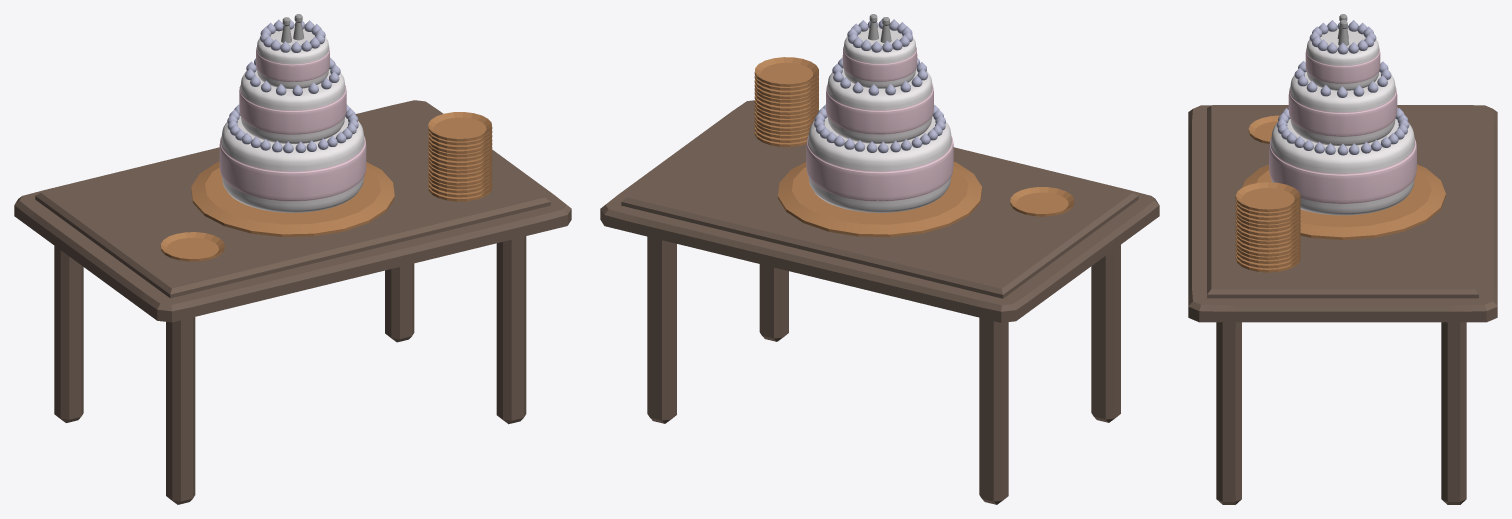
Rendered from wedding cake.fbx.
3 renders of one model, left to right at view 1: azimuth 30°, elevation 25°; view 2: azimuth 150°, elevation 25°; view 3: azimuth 270°, elevation 25°, orthographic.
Visible parts, largest first — view 1: pCube1, pCylinder2, pCylinder1, pCylinder3, polySurface14, pCone31, pCylinder4, polySurface24; view 2: pCube1, pCylinder2, pCylinder1, pCylinder3, polySurface14, pCone31, pCylinder4, polySurface24; view 3: pCube1, pCylinder2, pCylinder3, polySurface14, pCylinder1, pCone31, pCylinder4, polySurface24.
Boxes of the visible parts, box(x1,y1,x2,y2) form: pCube1: box(14, 100, 571, 504); pCylinder2: box(219, 116, 366, 212); pCylinder1: box(191, 161, 394, 236); pCylinder3: box(239, 69, 346, 143); polySurface14: box(428, 112, 492, 201); pCone31: box(227, 19, 358, 153); pCylinder4: box(256, 27, 329, 88); polySurface24: box(160, 232, 224, 261); pCube1: box(600, 100, 1159, 504); pCylinder2: box(806, 116, 953, 212); pCylinder1: box(778, 161, 981, 237); pCylinder3: box(826, 68, 933, 143); polySurface14: box(754, 57, 818, 147); pCone31: box(814, 19, 945, 153); pCylinder4: box(842, 26, 917, 88); polySurface24: box(1010, 187, 1074, 216); pCube1: box(1188, 105, 1497, 504); pCylinder2: box(1269, 119, 1416, 215); pCylinder3: box(1288, 72, 1397, 146); polySurface14: box(1235, 182, 1300, 272); pCylinder1: box(1242, 164, 1445, 239); pCone31: box(1276, 20, 1409, 155); pCylinder4: box(1305, 28, 1380, 90); polySurface24: box(1248, 115, 1279, 144).
Bounding box in the file's own units: 1.56 × 1.44 × 1.
